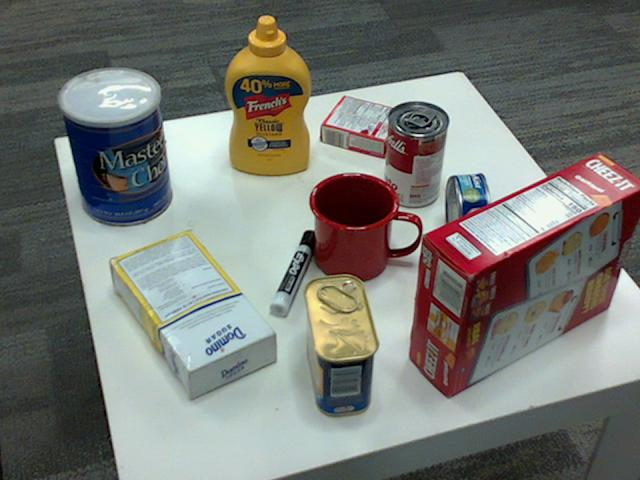cracker_box: (407, 151, 639, 394)
gelatin_box: (322, 95, 407, 155)
large_marker: (268, 231, 317, 320)
master_chef_can: (56, 68, 170, 226)
mug: (307, 169, 418, 279)
mustard_bottle: (224, 16, 310, 174)
potted_meat_can: (303, 275, 380, 415)
sugar_box: (107, 227, 274, 393)
tomato_soup_can: (382, 102, 447, 207)
tuna_fish_can: (444, 172, 489, 252)
